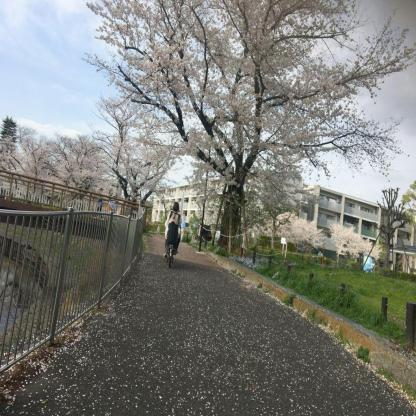Someiyoshino: (75, 0, 416, 229), (0, 128, 119, 197), (252, 203, 328, 256), (326, 218, 384, 262)
